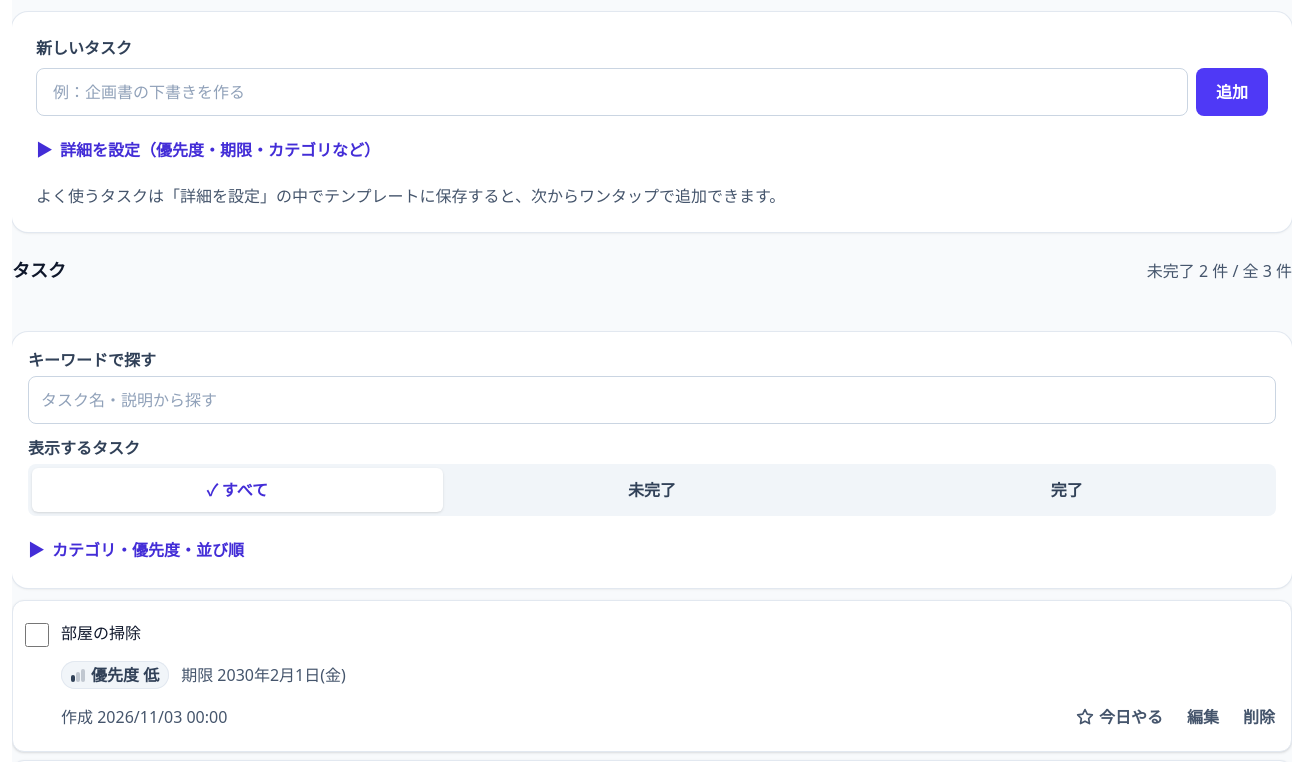
Test: 検索・絞り込み・並び替え › キーワードで検索でき、件数が表示される
(page scrolled)
Type "slack" into the search field labelled "キーワードで探す" at (652, 400), box [28, 376, 1276, 424]
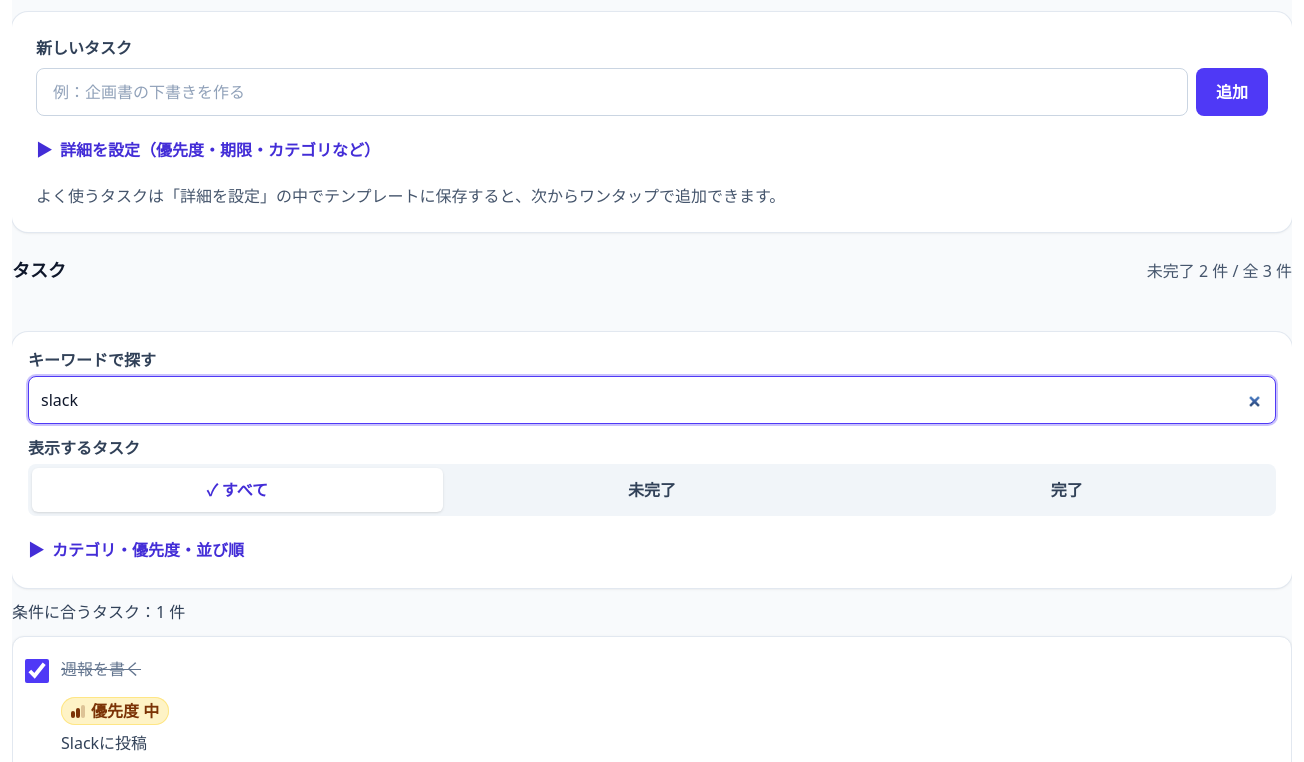
Expected: the text "条件に合うタスク：1 件" is shown, [12, 601, 185, 623]
